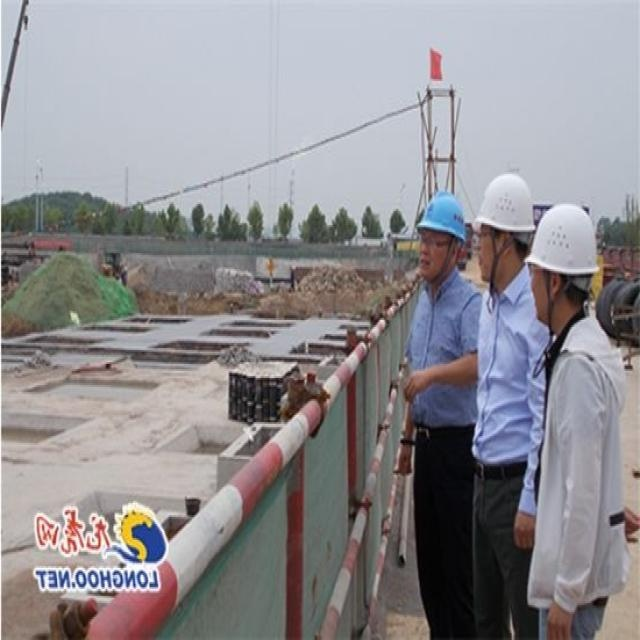Con_Casco: (530, 205, 597, 319), (414, 196, 467, 279)
